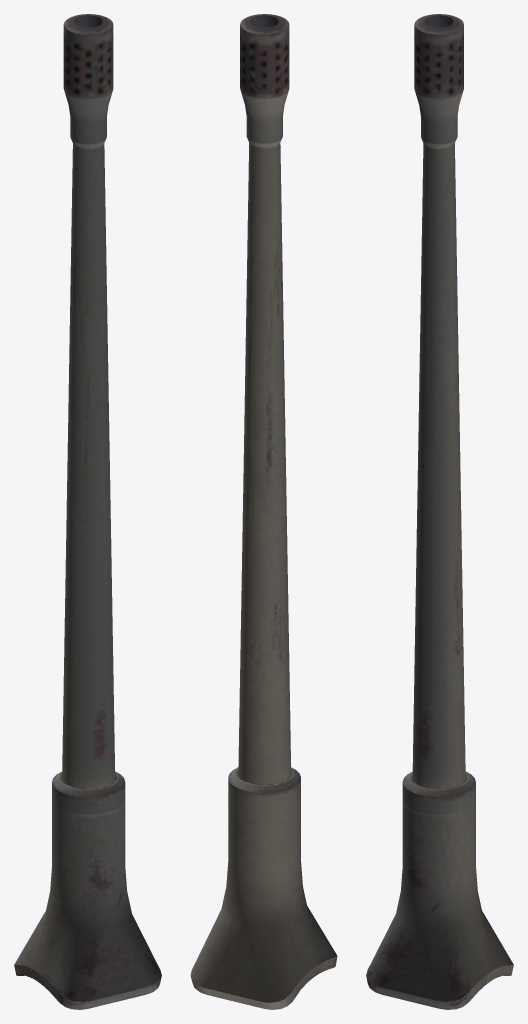
File: Gun_03.glb
3 views of the same model, side by side, from view 1: azimuth 30°, elevation 25°; view 2: azimuth 150°, elevation 25°; view 3: azimuth 330°, elevation 25° (orthographic).
Visible parts, largest first — view 1: set_0_group_0; view 2: set_0_group_0; view 3: set_0_group_0.
Boxes of the visible parts, x1,y1,x2,y2 form: set_0_group_0: (14,14,161,1009); set_0_group_0: (190,14,337,1009); set_0_group_0: (366,14,513,1009).
Size of the model in its own units: 0.5219 by 4.85 by 0.5674.
Materials: 1 (1 with a texture image).
